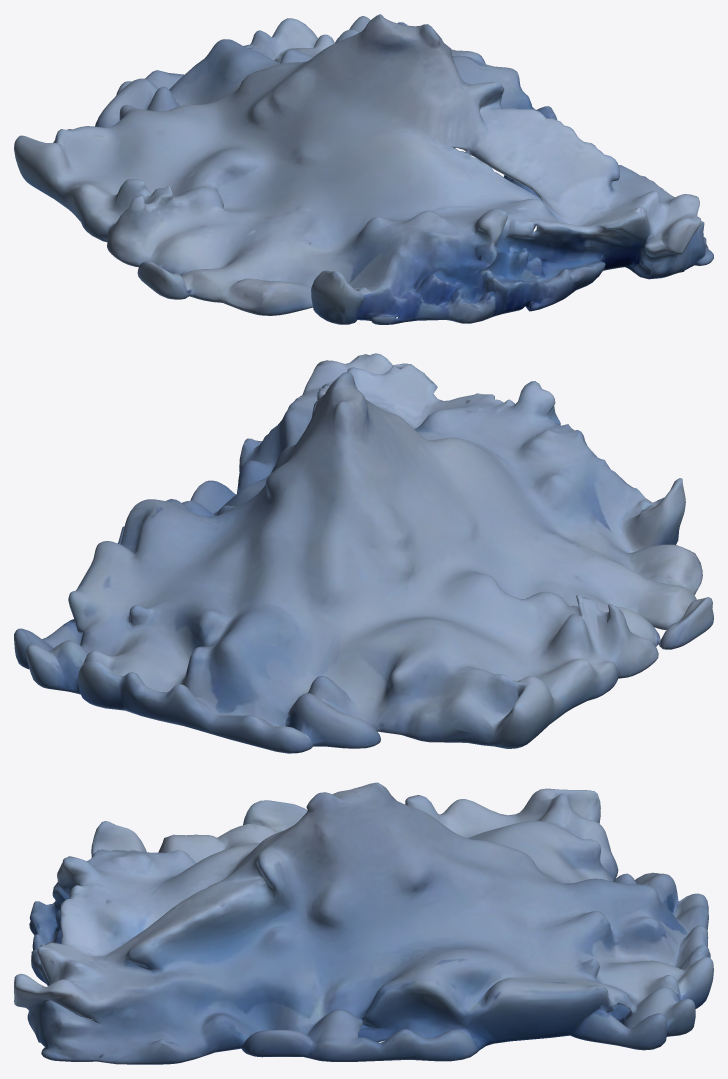
The model's file is iceberg.glb.
3 views of the same model, one above another, from view 1: azimuth 30°, elevation 25°; view 2: azimuth 150°, elevation 25°; view 3: azimuth 270°, elevation 25° (orthographic). The views are drawn at different scales.
Visible parts, largest first — view 1: Mesh_0; view 2: Mesh_0; view 3: Mesh_0.
Part boxes in pixels (bbox=[...]): Mesh_0: bbox=[14, 14, 713, 324]; Mesh_0: bbox=[14, 353, 713, 753]; Mesh_0: bbox=[14, 782, 713, 1064].
Bounding box in the file's own units: 0.7943 × 0.2909 × 0.9797.
1 material, 1 textured.
